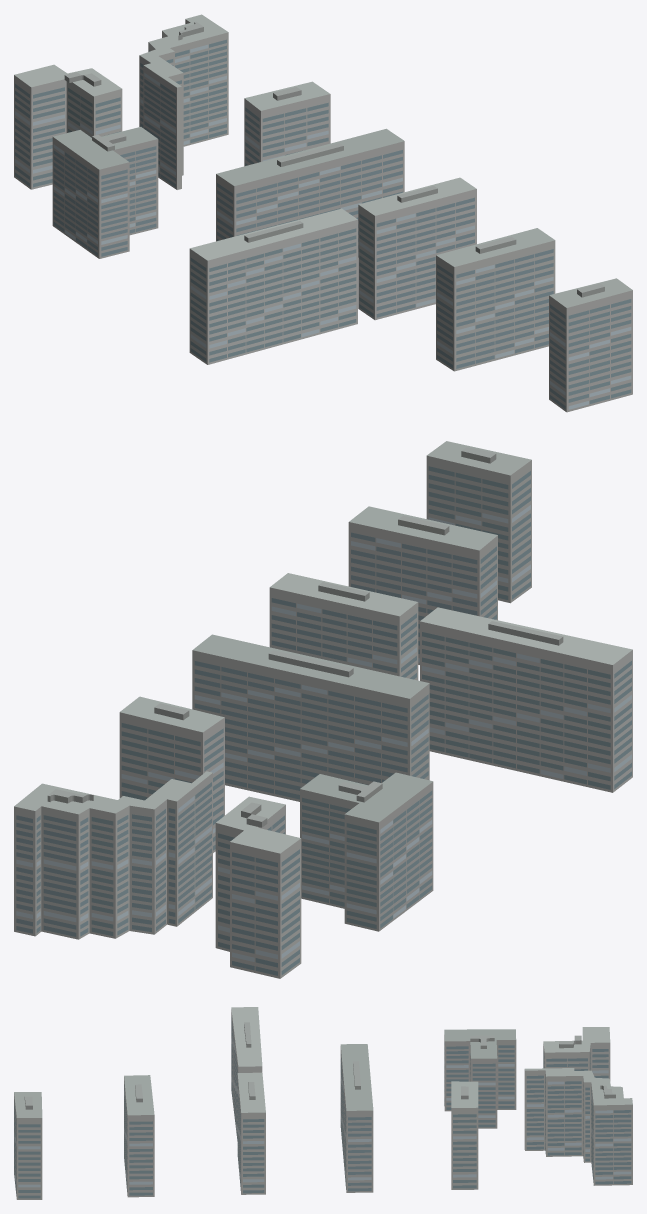
Rendered from apt-a15286806.glb.
3 renders of one model, top to bottom at view 1: azimuth 30°, elevation 25°; view 2: azimuth 150°, elevation 25°; view 3: azimuth 270°, elevation 25°, orthographic. The views are drawn at different scales.
Parts seen in each view (by area): view 1: apt-a15286806; view 2: apt-a15286806; view 3: apt-a15286806.
Boxes of the visible parts, bbox=[...] form: apt-a15286806: bbox=[14, 14, 632, 412]; apt-a15286806: bbox=[14, 441, 632, 978]; apt-a15286806: bbox=[14, 1007, 632, 1199].
Size of the model in its own units: 133 by 47.81 by 313.
